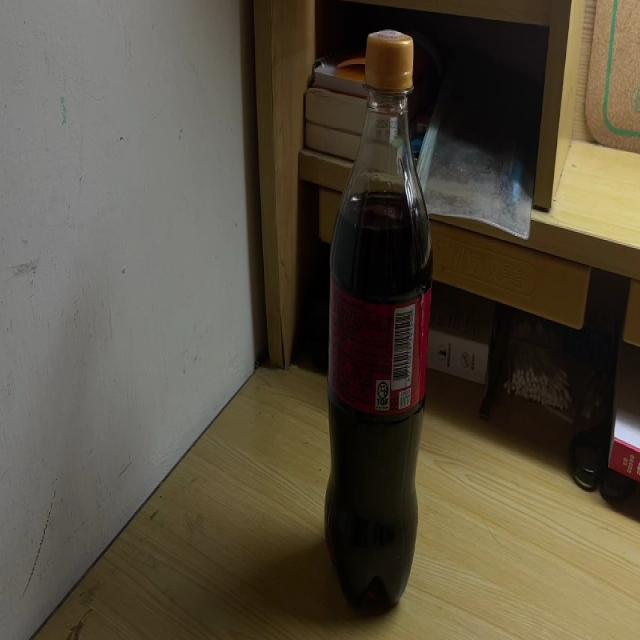Coca-Cola: (326, 30, 432, 610)
